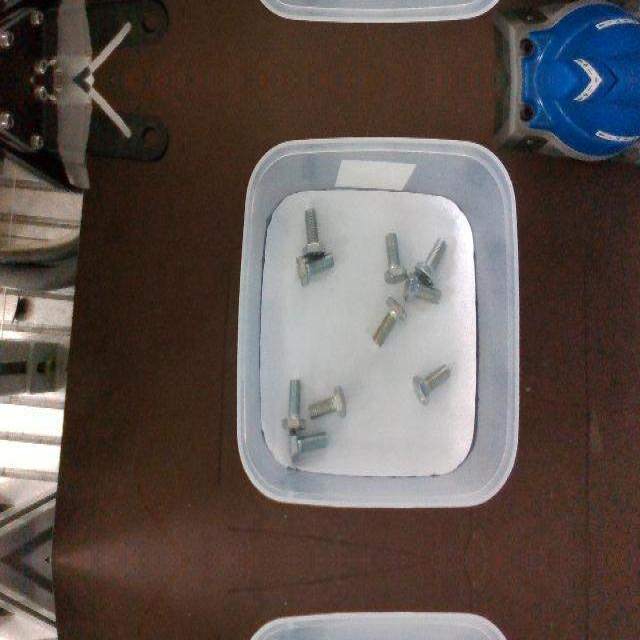screw: (373, 296, 408, 348), (415, 237, 448, 287), (412, 365, 451, 407), (289, 428, 327, 464), (296, 251, 335, 285), (308, 384, 346, 418), (383, 232, 407, 284), (281, 378, 305, 430), (403, 272, 441, 304), (301, 208, 325, 258)
